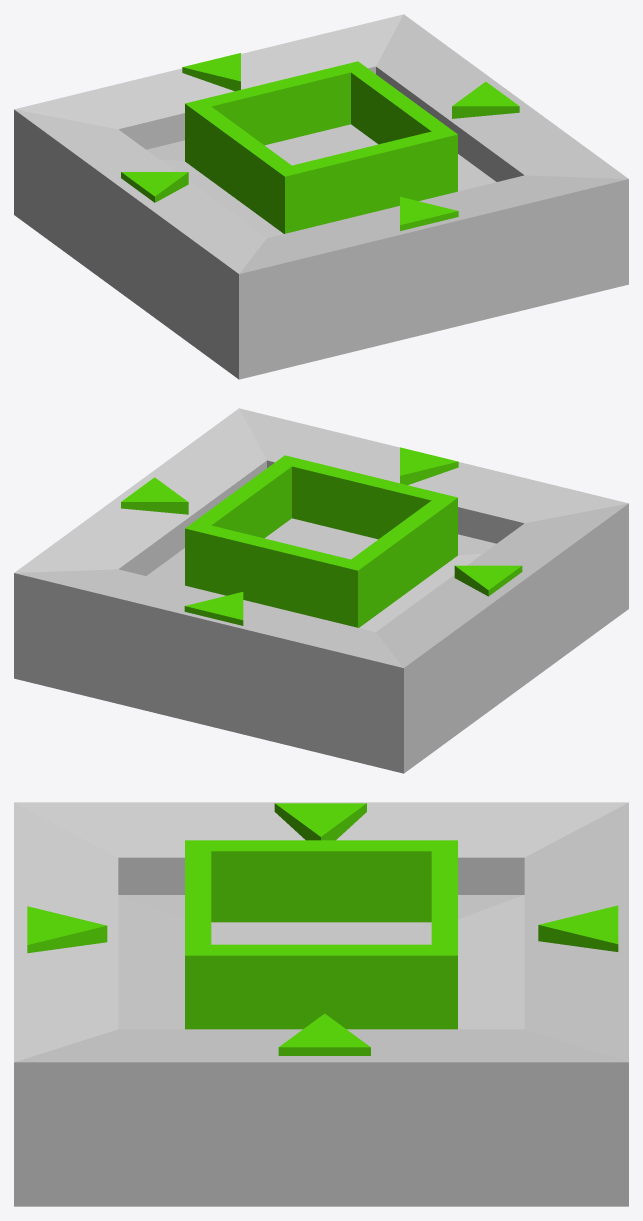
File: Port.fbx
The picture shows the model from 3 angles, top to bottom: view 1: azimuth 30°, elevation 25°; view 2: azimuth 150°, elevation 25°; view 3: azimuth 270°, elevation 25°; orthographic projection. The views are drawn at different scales.
Parts seen in each view (by area): view 1: Cube; view 2: Cube; view 3: Cube.
Part boxes in pixels (x1,y1,x2,y2): Cube: (14,14,628,379); Cube: (14,408,628,773); Cube: (14,802,628,1206).
Size of the model in its own units: 200 by 64.09 by 200.
